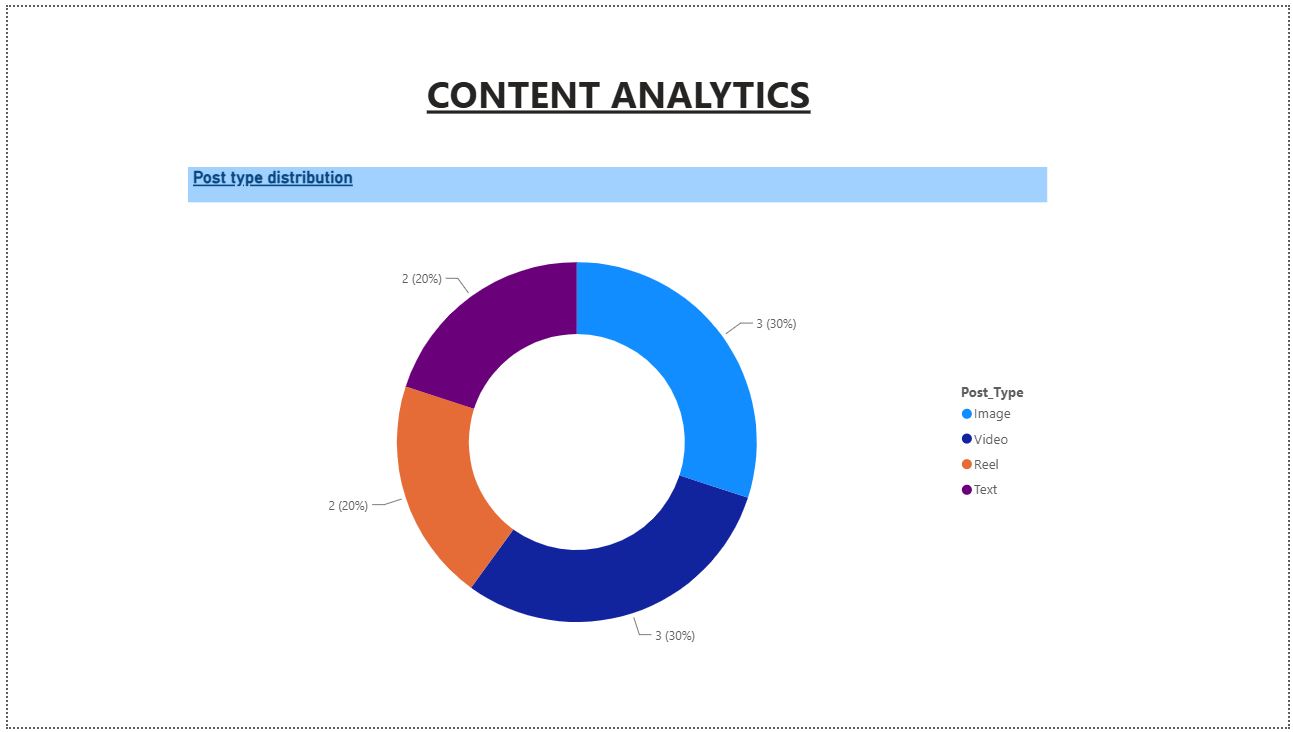

Layout of this report page (visuals, bound fields, positions):
{"tool":"powerbi","page":{"name":"Page 3","canvas":[1280,720],"ordinal":2},"visuals":[{"type":"donutChart","title":"Post type distribution","fields":{"Category":["Sheet1.Post_Type"],"Y":["CountNonNull(Sheet1.Post_Type)"]},"box":[179.8,160.5,859,520],"z":0},{"type":"textbox","box":[413.8,56.7,441.6,65.1],"z":1000}]}

Visuals, with their boxes in screenshot pixels (x1, y1, x2, y2), scaled from the page's 1280x720 canvas onto the 1293x732 screenshot:
"Post type distribution" donutChart: (182, 163, 1049, 692)
textbox: (418, 58, 864, 124)
